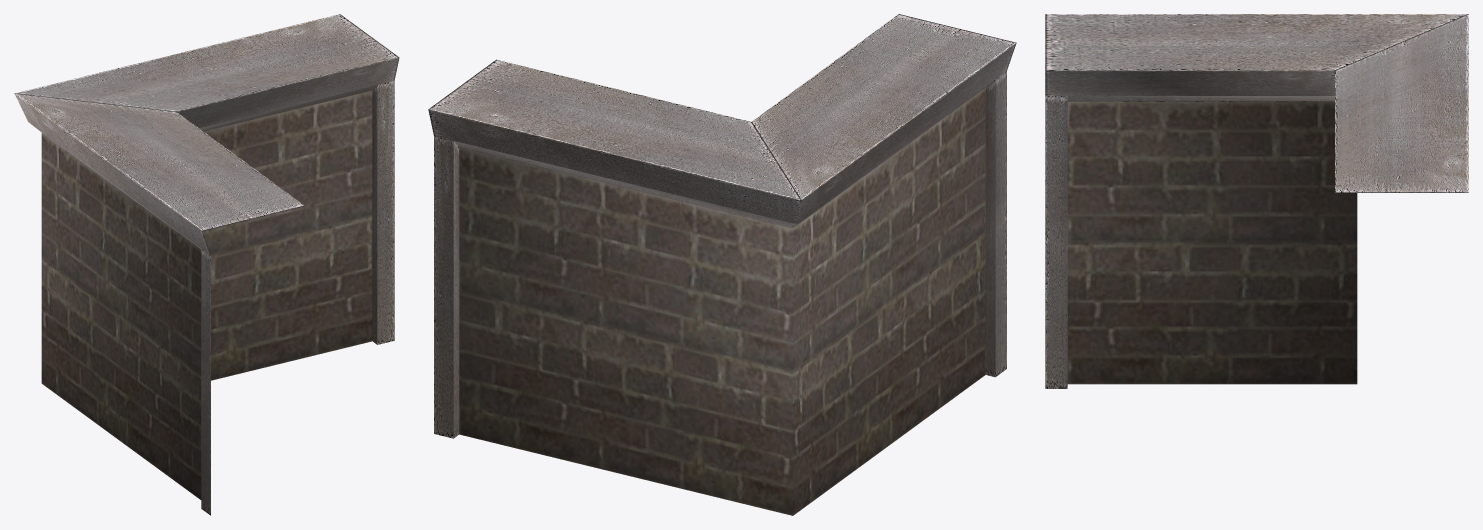
The model's file is M10_Zone2_Wall1_Corner.glb.
3 renders of one model, left to right at view 1: azimuth 30°, elevation 25°; view 2: azimuth 150°, elevation 25°; view 3: azimuth 270°, elevation 25°, orthographic. The views are drawn at different scales.
Parts seen in each view (by area): view 1: M10_ZONE2_WALL1_CORNER; view 2: M10_ZONE2_WALL1_CORNER; view 3: M10_ZONE2_WALL1_CORNER.
Part boxes in pixels (x1,y1,x2,y2): M10_ZONE2_WALL1_CORNER: (14, 14, 399, 515); M10_ZONE2_WALL1_CORNER: (428, 14, 1016, 515); M10_ZONE2_WALL1_CORNER: (1045, 14, 1468, 388).
Size of the model in its own units: 4.75 by 4 by 4.75.
Materials: 2 (2 with a texture image).
